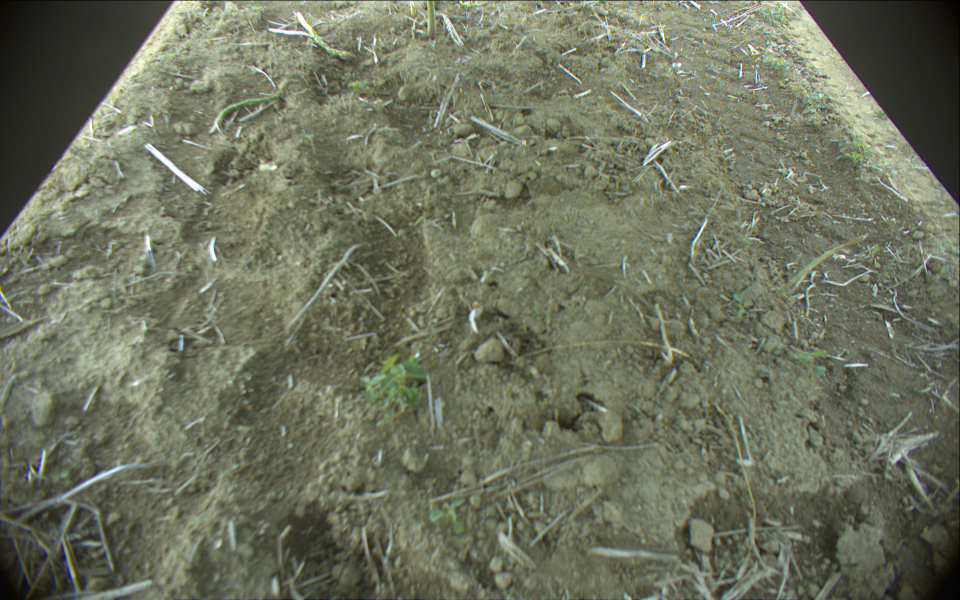aspa: (296, 12, 355, 63), (210, 90, 283, 131), (425, 1, 439, 37)
